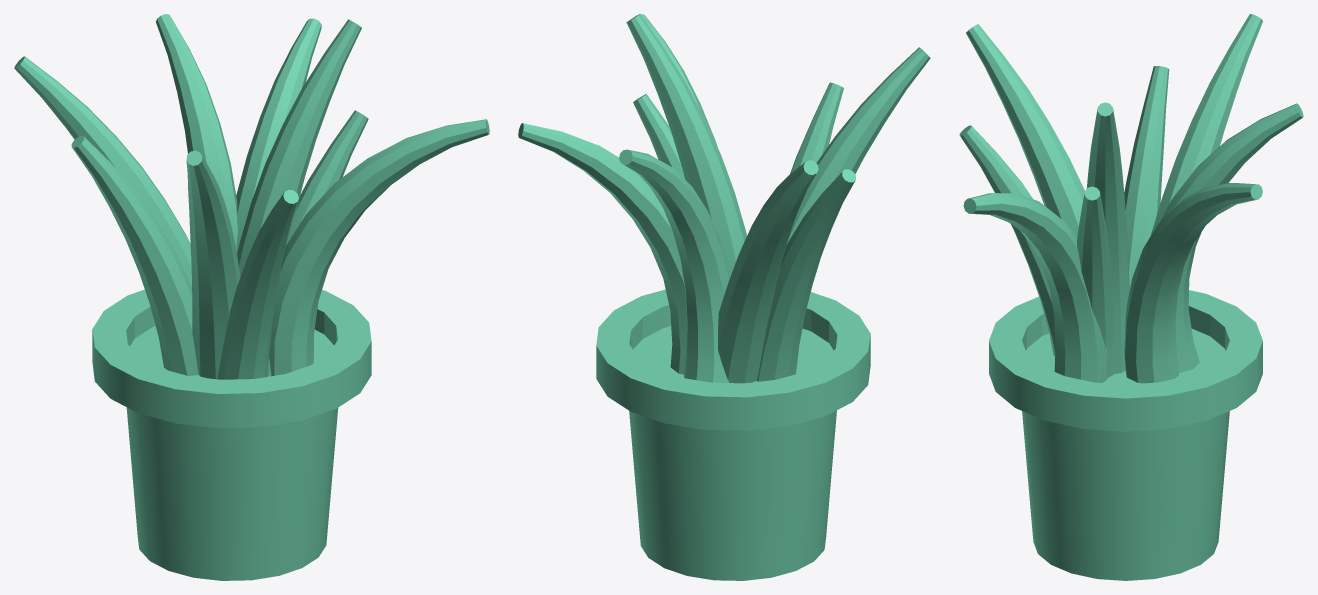
File: small plant.fbx
3 views of the same model, side by side, from view 1: azimuth 30°, elevation 25°; view 2: azimuth 150°, elevation 25°; view 3: azimuth 270°, elevation 25° (orthographic). The views are drawn at different scales.
Parts seen in each view (by area): view 1: small_plant; view 2: small_plant; view 3: small_plant.
Boxes of the visible parts, x1,y1,x2,y2 form: small_plant: [14, 14, 489, 580]; small_plant: [518, 14, 930, 580]; small_plant: [959, 14, 1303, 580].
Size of the model in its own units: 2.85 by 4.13 by 2.63.
